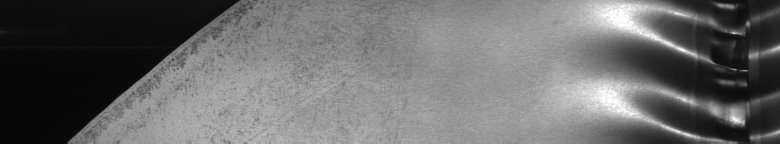ke: (629, 4, 688, 136)
